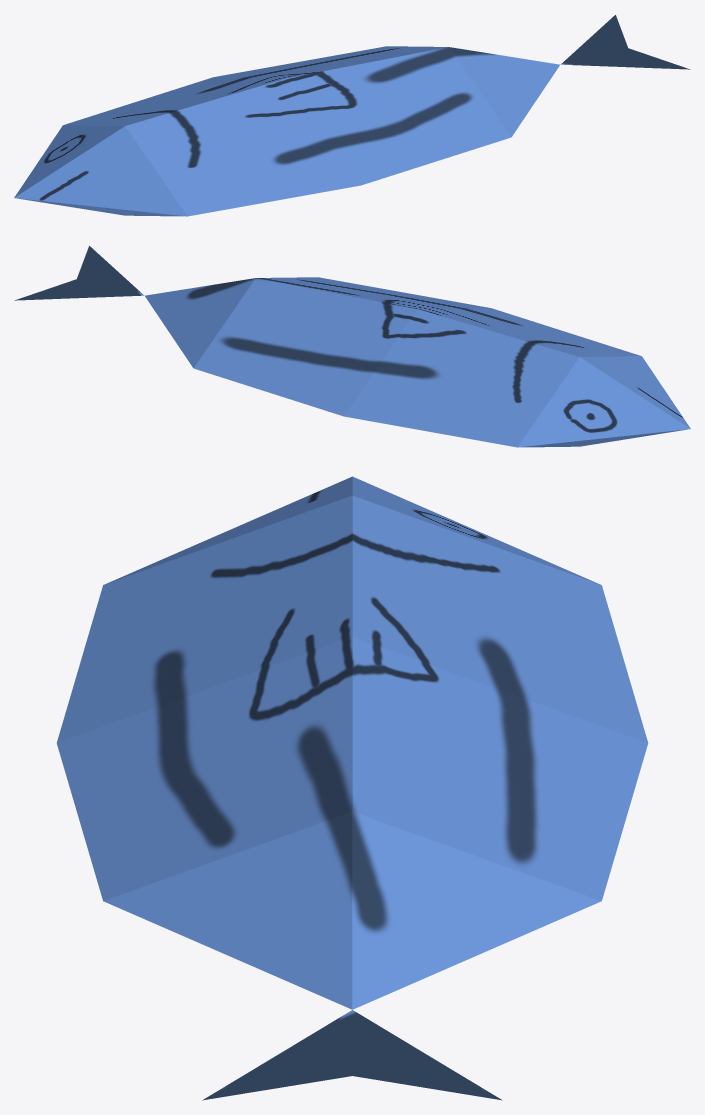
The model's file is fish.fbx.
The picture shows the model from 3 angles, top to bottom: view 1: azimuth 30°, elevation 25°; view 2: azimuth 150°, elevation 25°; view 3: azimuth 270°, elevation 25°; orthographic projection. The views are drawn at different scales.
Parts seen in each view (by area): view 1: 球; view 2: 球; view 3: 球.
Boxes of the visible parts, x1,y1,x2,y2 form: 球: (14,15,690,216); 球: (14,246,690,447); 球: (56,476,648,1100).
Bounding box in the file's own units: 48.15 × 7.66 × 19.29.
Materials: 1 (1 with a texture image).
